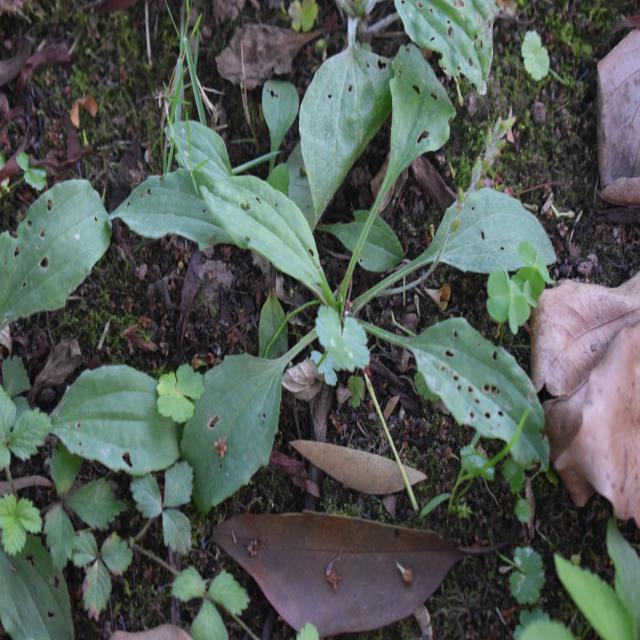plantain: (154, 55, 550, 473)
